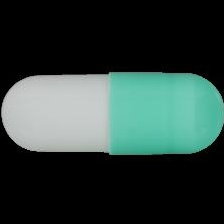0093-5295: (0, 0, 224, 224)
